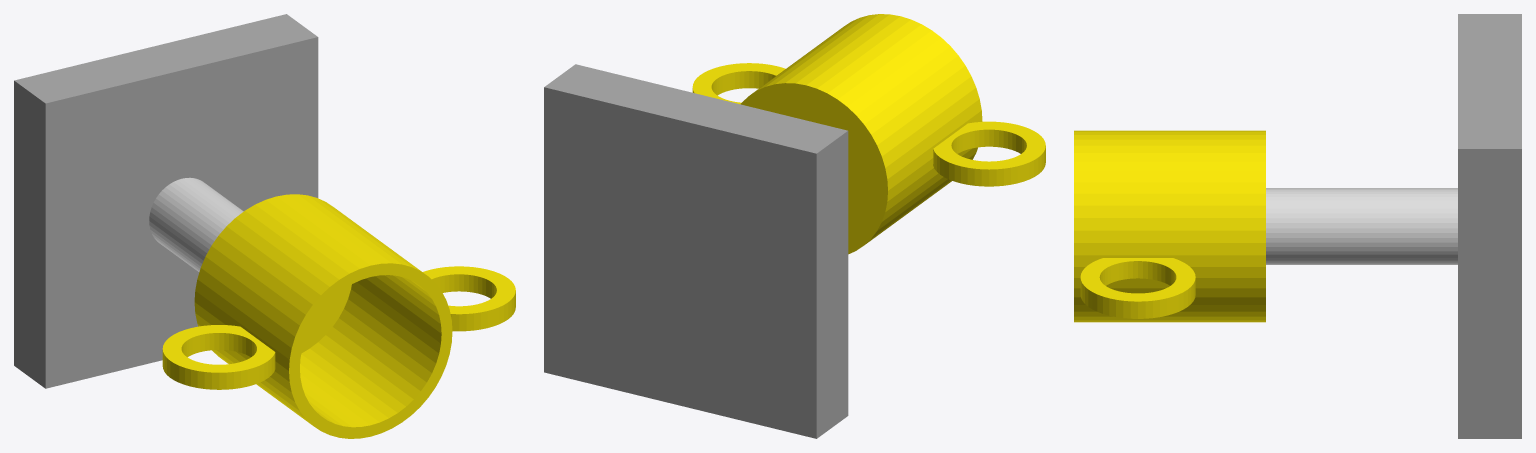
The picture shows the model from 3 angles, left to right: view 1: azimuth 30°, elevation 25°; view 2: azimuth 150°, elevation 25°; view 3: azimuth 270°, elevation 25°; orthographic projection.
Bounding box in the file's own units: 62 × 50 × 70.
